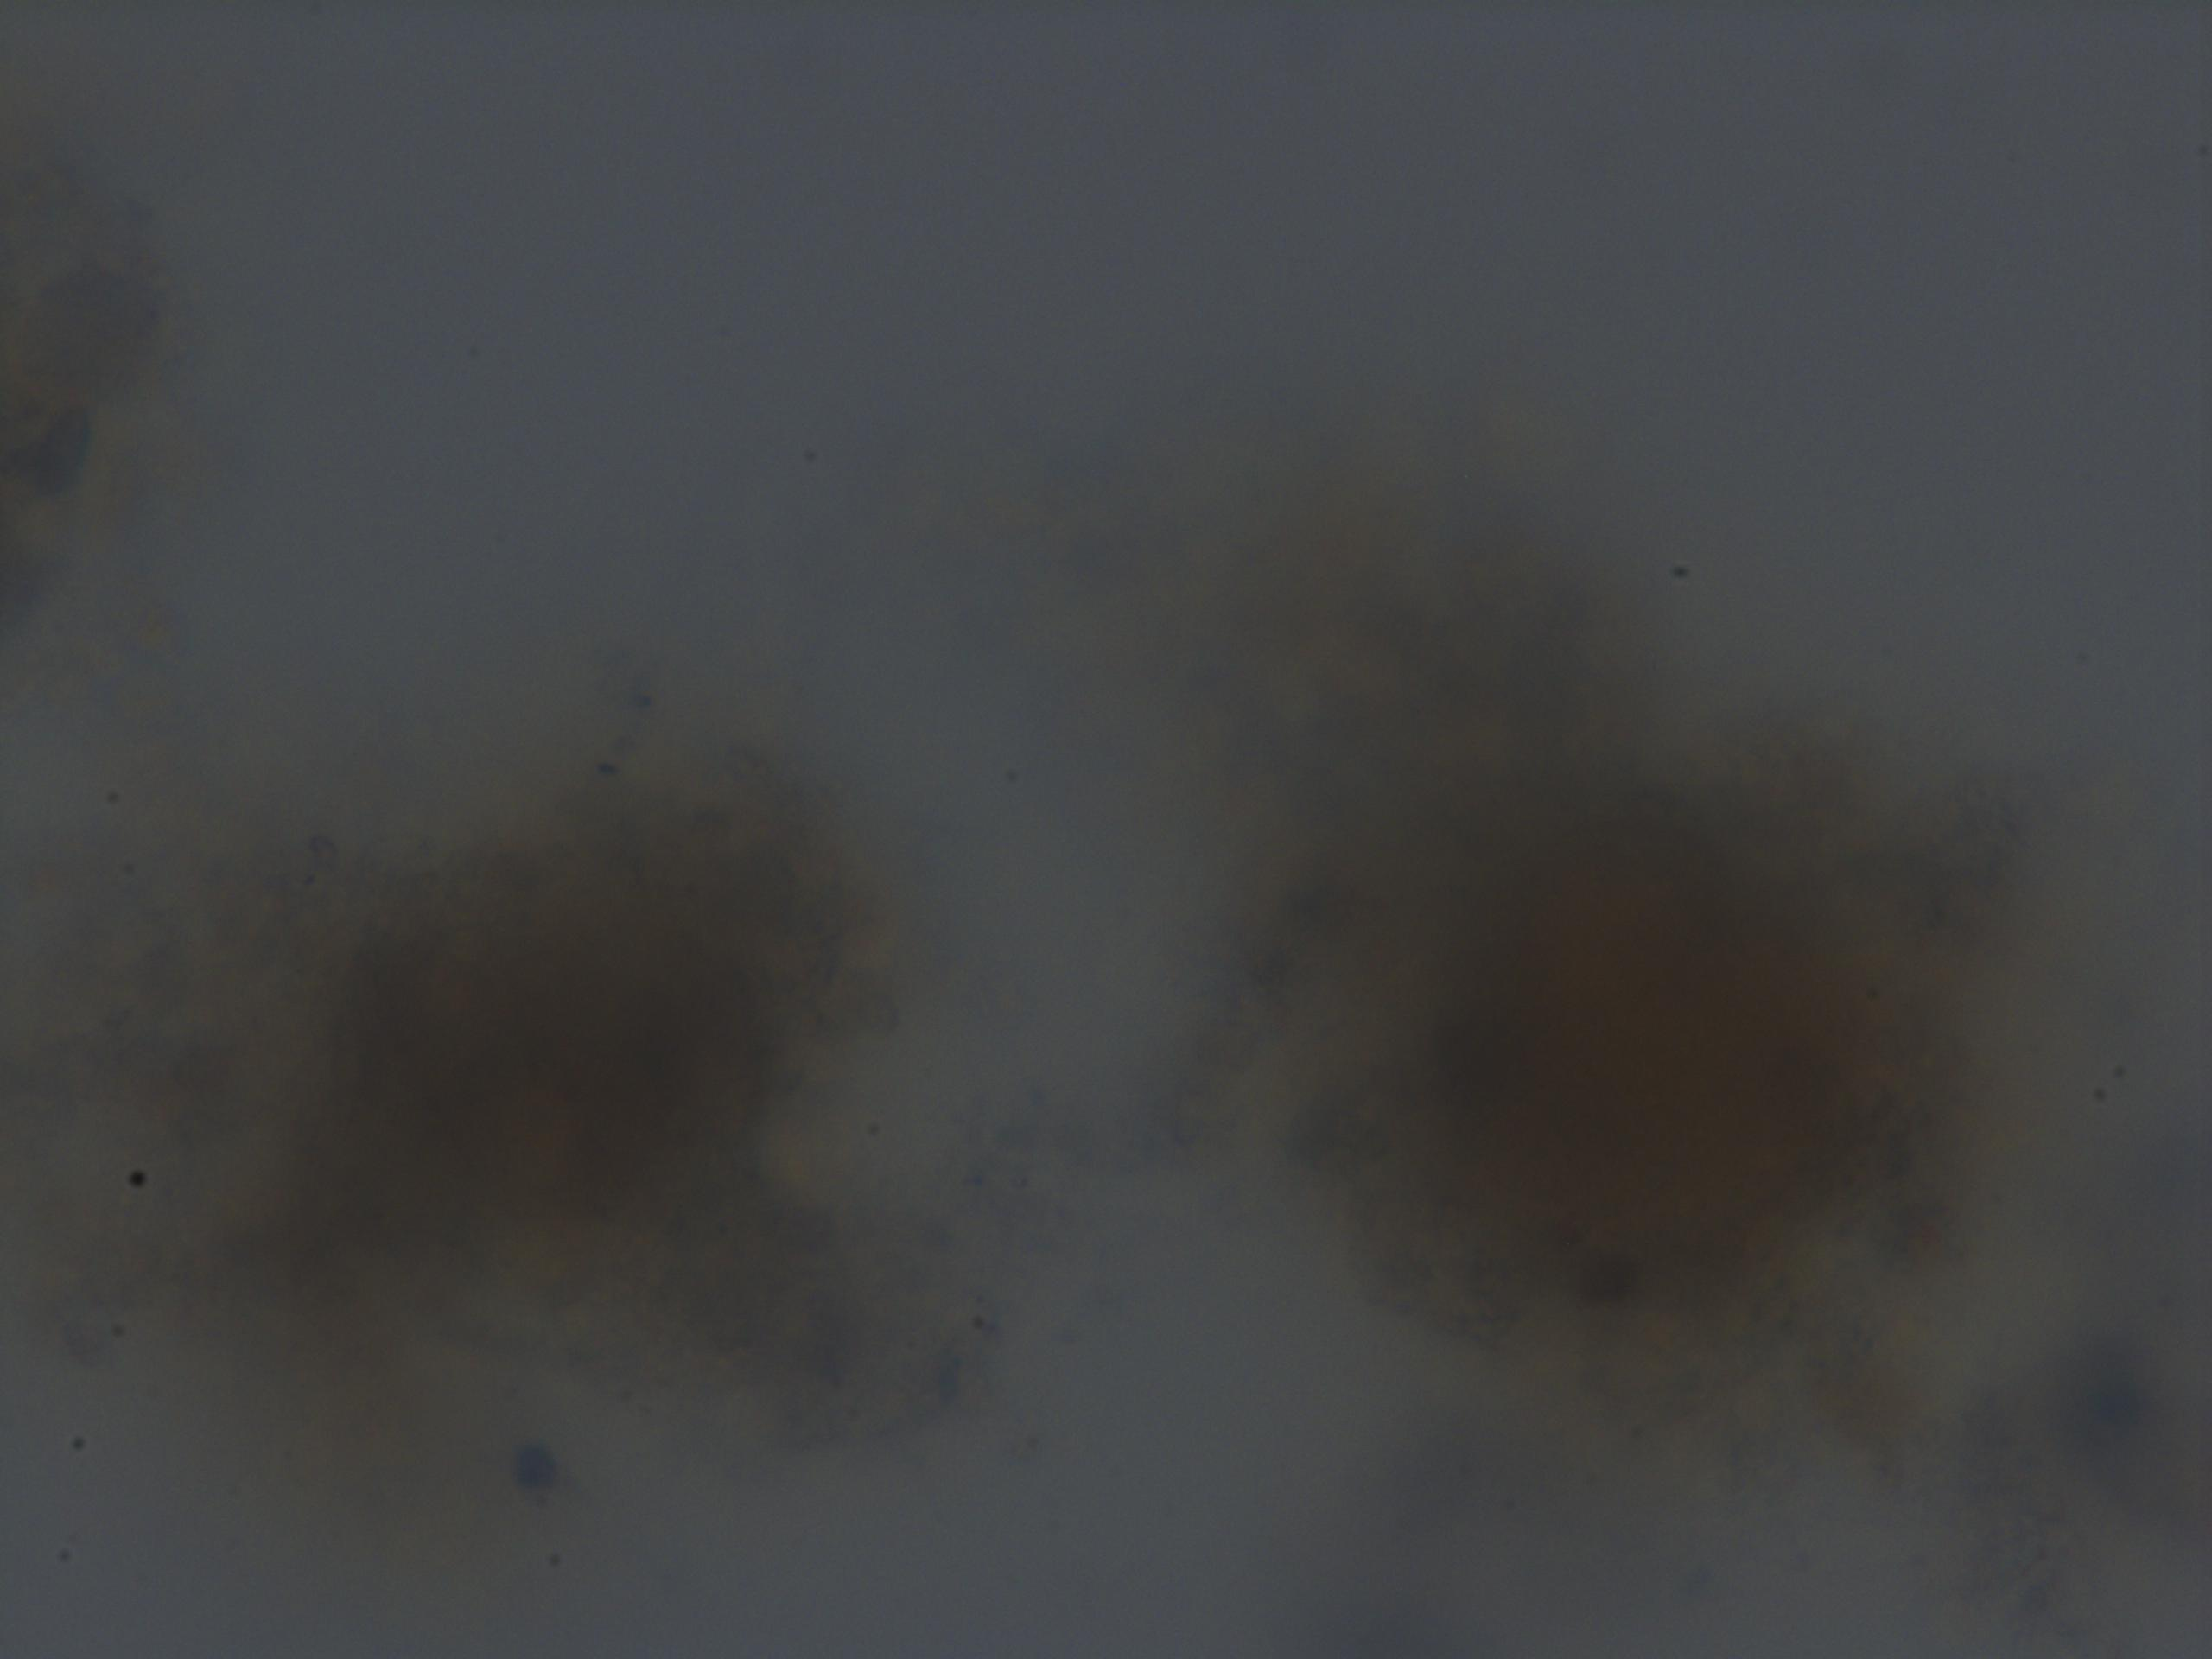spherical_floc: (33, 690, 981, 1567), (1172, 680, 2101, 1412)
